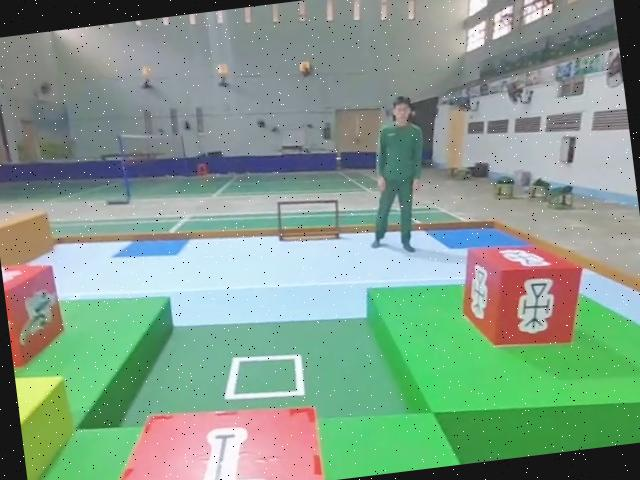R1: (0, 256, 69, 368)
R2 Real: (70, 392, 326, 480), (457, 235, 592, 357)
